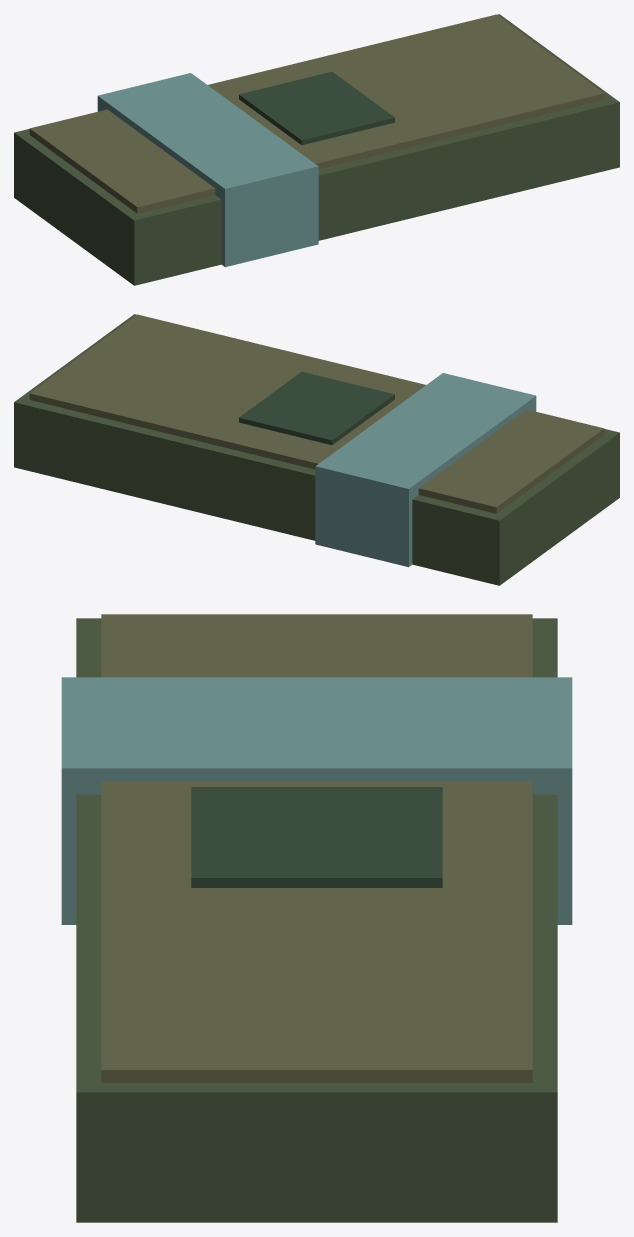
The model's file is teanc_bani.glb.
The picture shows the model from 3 angles, top to bottom: view 1: azimuth 30°, elevation 25°; view 2: azimuth 150°, elevation 25°; view 3: azimuth 270°, elevation 25°; orthographic projection. The views are drawn at different scales.
Visible parts, largest first — view 1: Teanc; view 2: Teanc; view 3: Teanc.
Part boxes in pixels (x1,y1,x2,y2): Teanc: (14, 14, 619, 285); Teanc: (14, 314, 619, 585); Teanc: (61, 614, 572, 1222).
Size of the model in its own units: 0.156 by 0.024 by 0.071.
